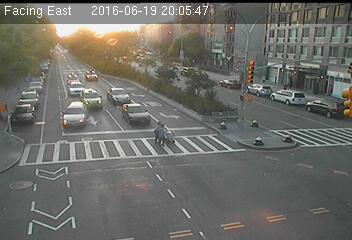neg: (294, 166, 317, 198), (141, 168, 163, 198), (306, 110, 327, 139), (240, 188, 261, 217), (17, 161, 38, 189), (278, 76, 296, 99), (223, 86, 240, 108), (88, 159, 105, 181), (120, 93, 137, 115), (249, 131, 265, 153), (30, 39, 46, 60), (56, 114, 72, 135), (62, 31, 77, 51), (26, 104, 41, 123), (133, 56, 147, 76), (172, 69, 186, 88), (33, 72, 46, 90), (100, 44, 112, 60)
pos: (154, 122, 172, 146)
